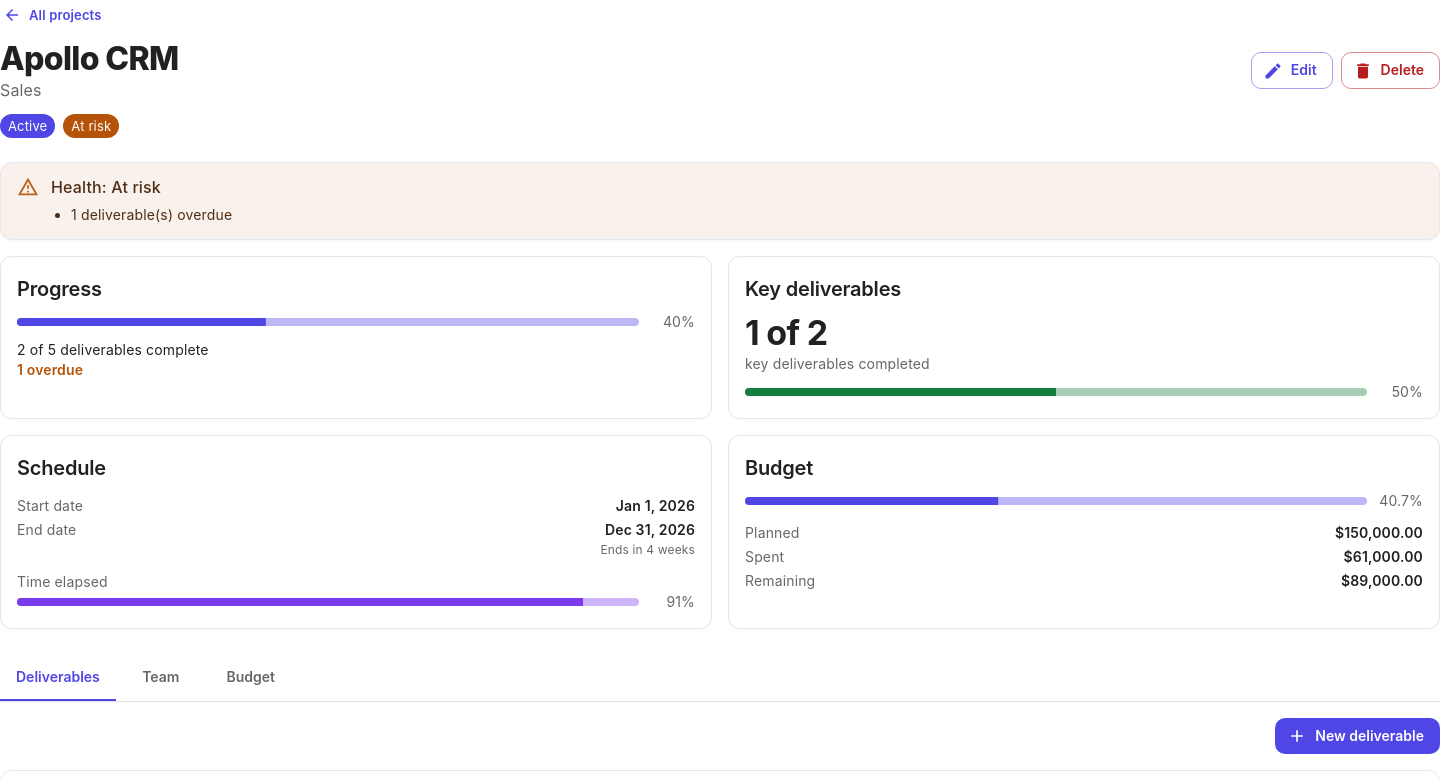
Scenario: ProjectDetailPage › deletes the project after confirmation and returns to the list
This screenshot has width=1440, height=780.
What coordinates should you click on to do the following:
click the button "Delete"
I would click on:
 (1390, 71)
Its box is x1=1341 y1=52 x2=1439 y2=89.
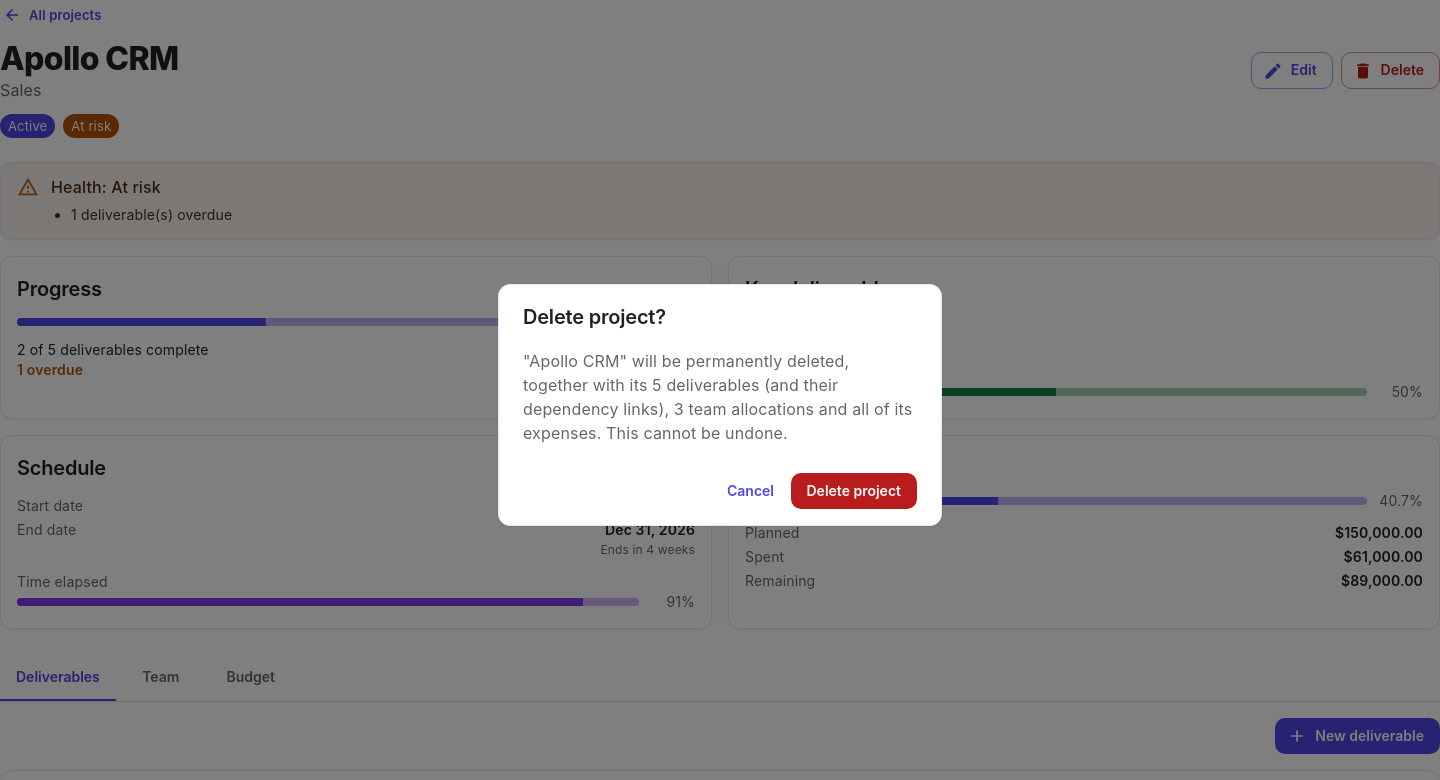
Check: the dialog "Delete project?" shows "\"Apollo CRM\" will be permanently deleted, together with its 5 deliverables (and their dependency links), 3 team allocations and all of its expenses.", box x1=523 y1=351 x2=912 y2=443
What coordinates should you click on to do the following:
click the button "Delete project"
I would click on:
 (854, 491)
Its box is x1=790 y1=473 x2=917 y2=509.
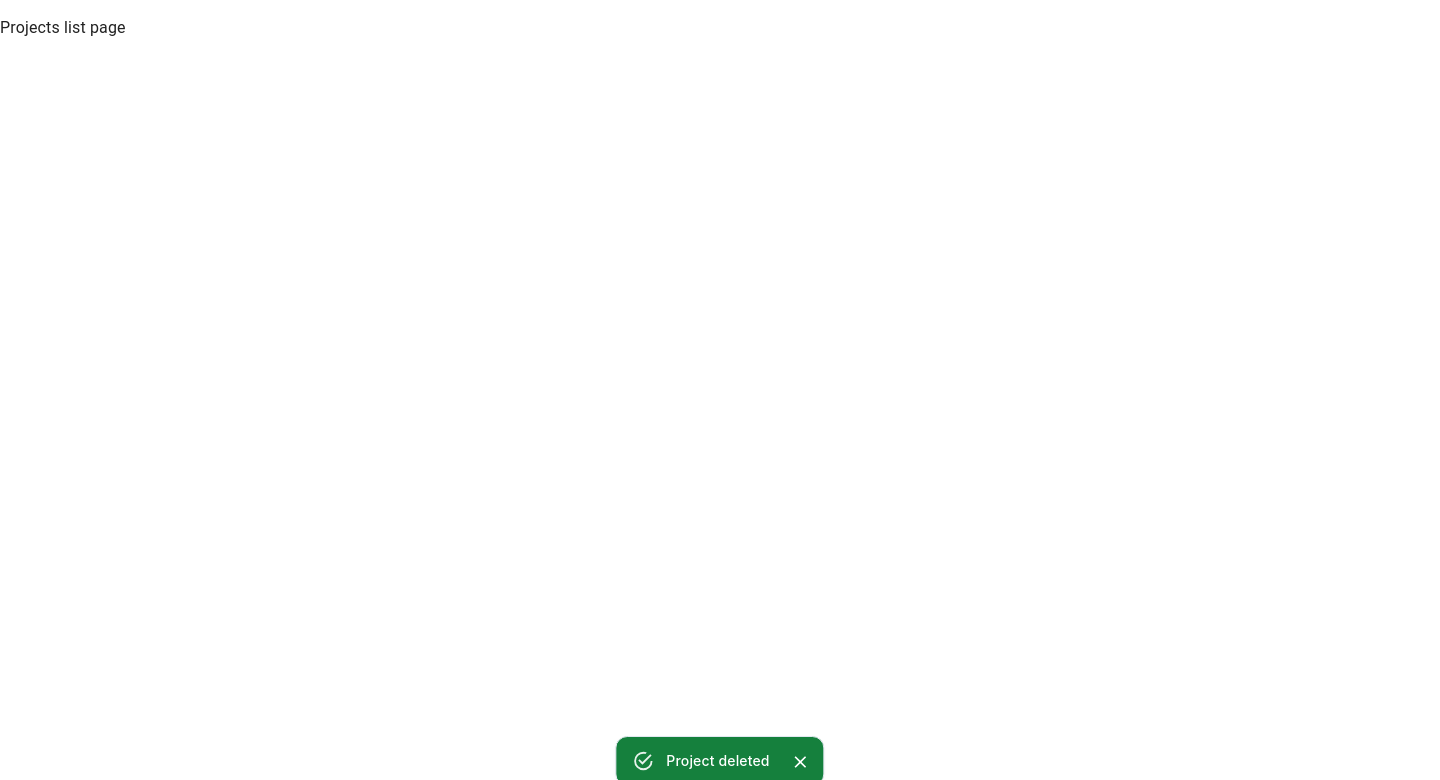
Check: the text "Projects list page" is shown, box x1=0 y1=18 x2=126 y2=37
Check: the text "Project deleted" is shown, box x1=666 y1=752 x2=770 y2=769
